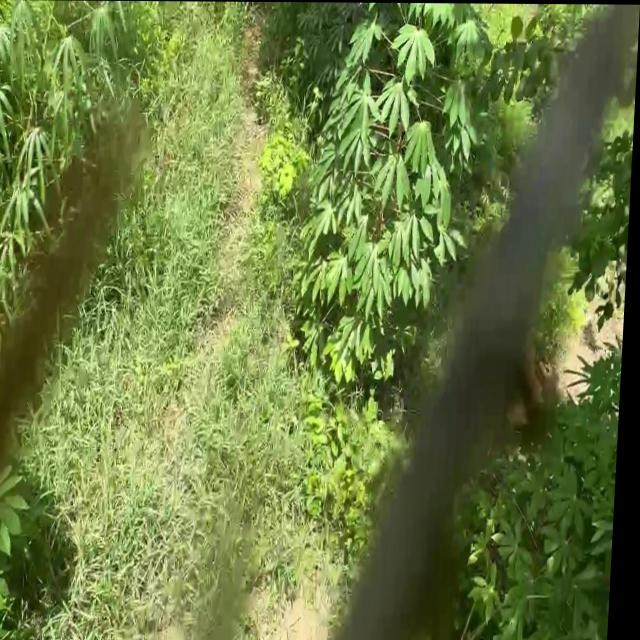Maleza: (59, 465, 283, 619), (148, 295, 298, 482), (25, 381, 236, 478), (263, 398, 385, 554), (138, 171, 269, 310), (190, 9, 275, 203), (230, 100, 301, 200)
